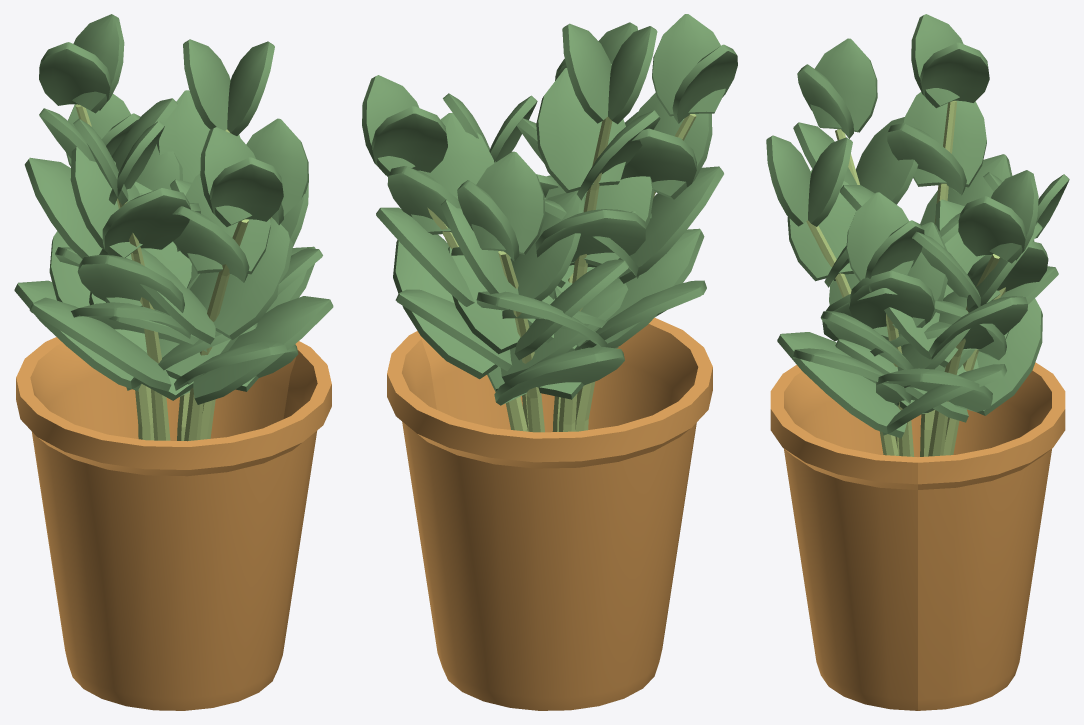
File: fresh-produce-and-groceries-basil-pot-9e81e2e5__24389.glb
3 renders of one model, left to right at view 1: azimuth 30°, elevation 25°; view 2: azimuth 150°, elevation 25°; view 3: azimuth 270°, elevation 25°, orthographic. The views are drawn at different scales.
Parts seen in each view (by area): view 1: basil-pot; view 2: basil-pot; view 3: basil-pot.
Boxes of the visible parts, <box> form: basil-pot: <box>14,14,333,710</box>; basil-pot: <box>362,14,737,710</box>; basil-pot: <box>766,14,1069,710</box>.
Size of the model in its own units: 0.1067 by 0.2258 by 0.1021.
